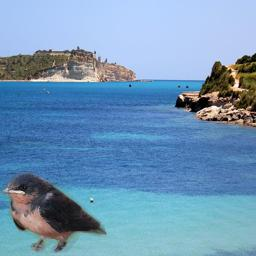Swallow: (1, 172, 107, 253)
